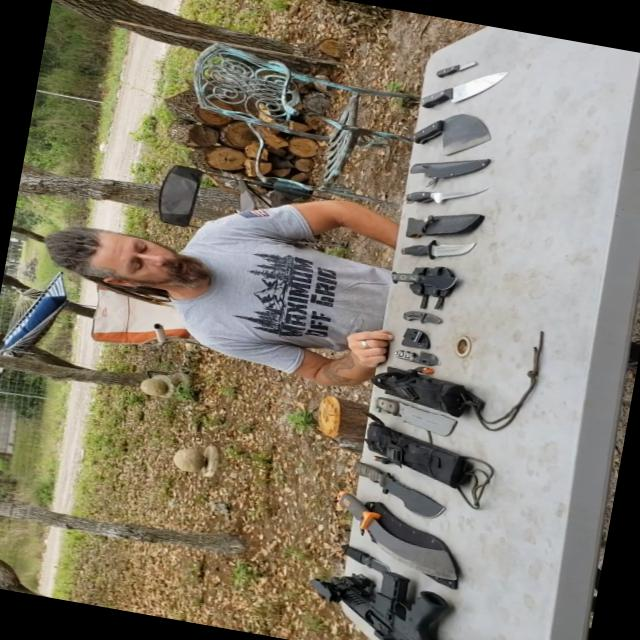knife: (316, 487, 484, 589), (325, 456, 457, 525), (402, 52, 512, 126), (403, 100, 502, 170), (391, 162, 498, 225), (362, 398, 474, 441), (374, 256, 463, 303), (389, 227, 478, 269), (420, 44, 488, 86), (331, 538, 401, 574), (380, 340, 446, 370), (392, 298, 444, 336)
long weapon: (283, 554, 526, 639)
